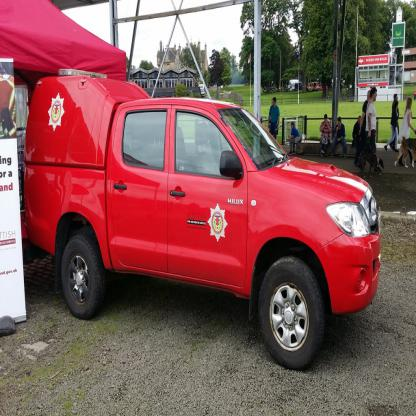Truck: (24, 45, 381, 371)
